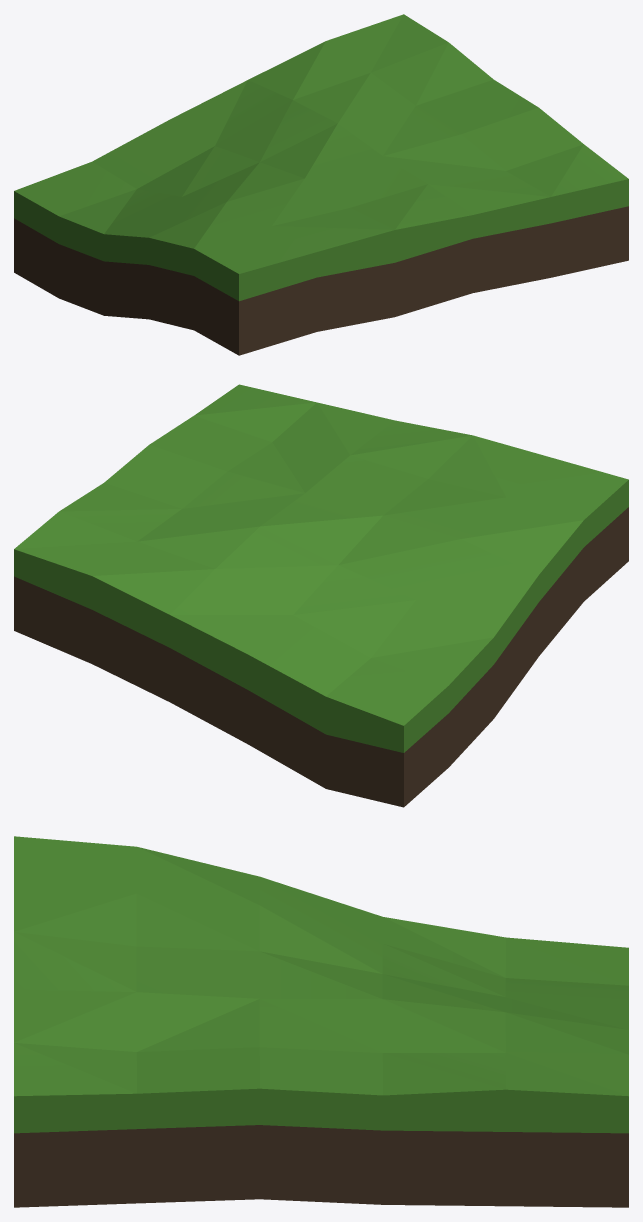
Rendered from terrains_terrain-world-valley1.fbx.
3 views of the same model, one above another, from view 1: azimuth 30°, elevation 25°; view 2: azimuth 150°, elevation 25°; view 3: azimuth 270°, elevation 25° (orthographic). The views are drawn at different scales.
Visible parts, largest first — view 1: terrains_terrain_world_valley1; view 2: terrains_terrain_world_valley1; view 3: terrains_terrain_world_valley1.
Boxes of the visible parts, <box> form: terrains_terrain_world_valley1: <box>14,14,628,355</box>; terrains_terrain_world_valley1: <box>14,384,628,807</box>; terrains_terrain_world_valley1: <box>14,836,628,1207</box>.
Size of the model in its own units: 200 by 83.22 by 200.
